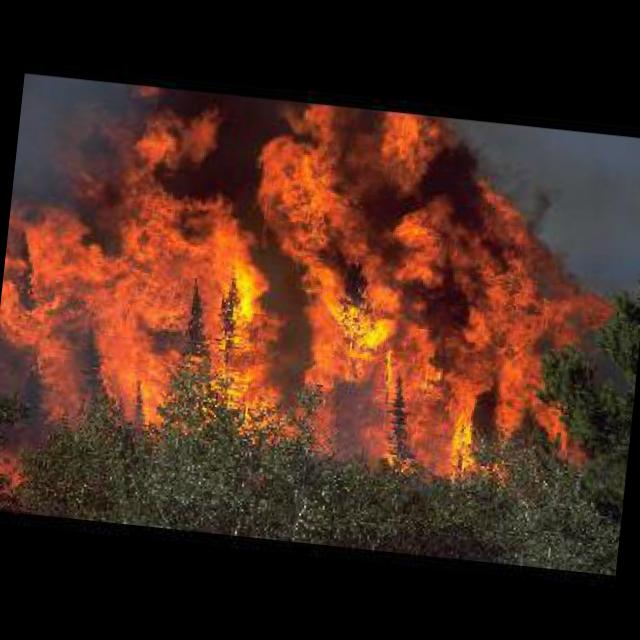fire: (0, 75, 627, 491)
